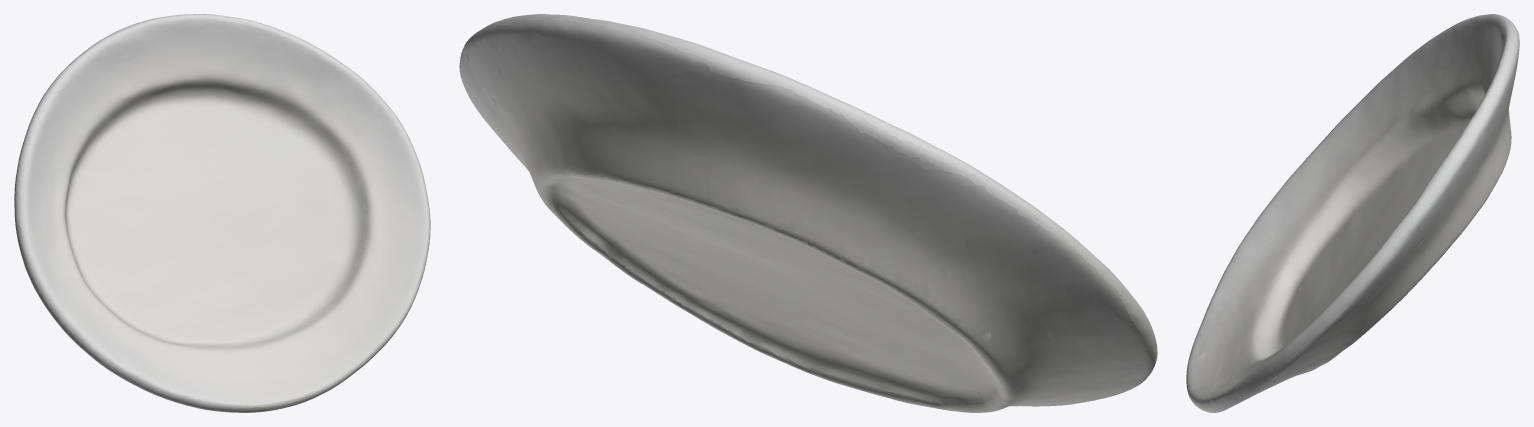
Rendered from iter_14.glb.
3 views of the same model, side by side, from view 1: azimuth 30°, elevation 25°; view 2: azimuth 150°, elevation 25°; view 3: azimuth 270°, elevation 25° (orthographic). The views are drawn at different scales.
Parts seen in each view (by area): view 1: textured_mesh; view 2: textured_mesh; view 3: textured_mesh.
Boxes of the visible parts, left/top/right/bottom form: textured_mesh: left=14, top=14, right=430, bottom=412; textured_mesh: left=459, top=14, right=1157, bottom=412; textured_mesh: left=1186, top=14, right=1519, bottom=412.
Size of the model in its own units: 1.99 by 1.44 by 1.27.
1 material, 1 textured.
